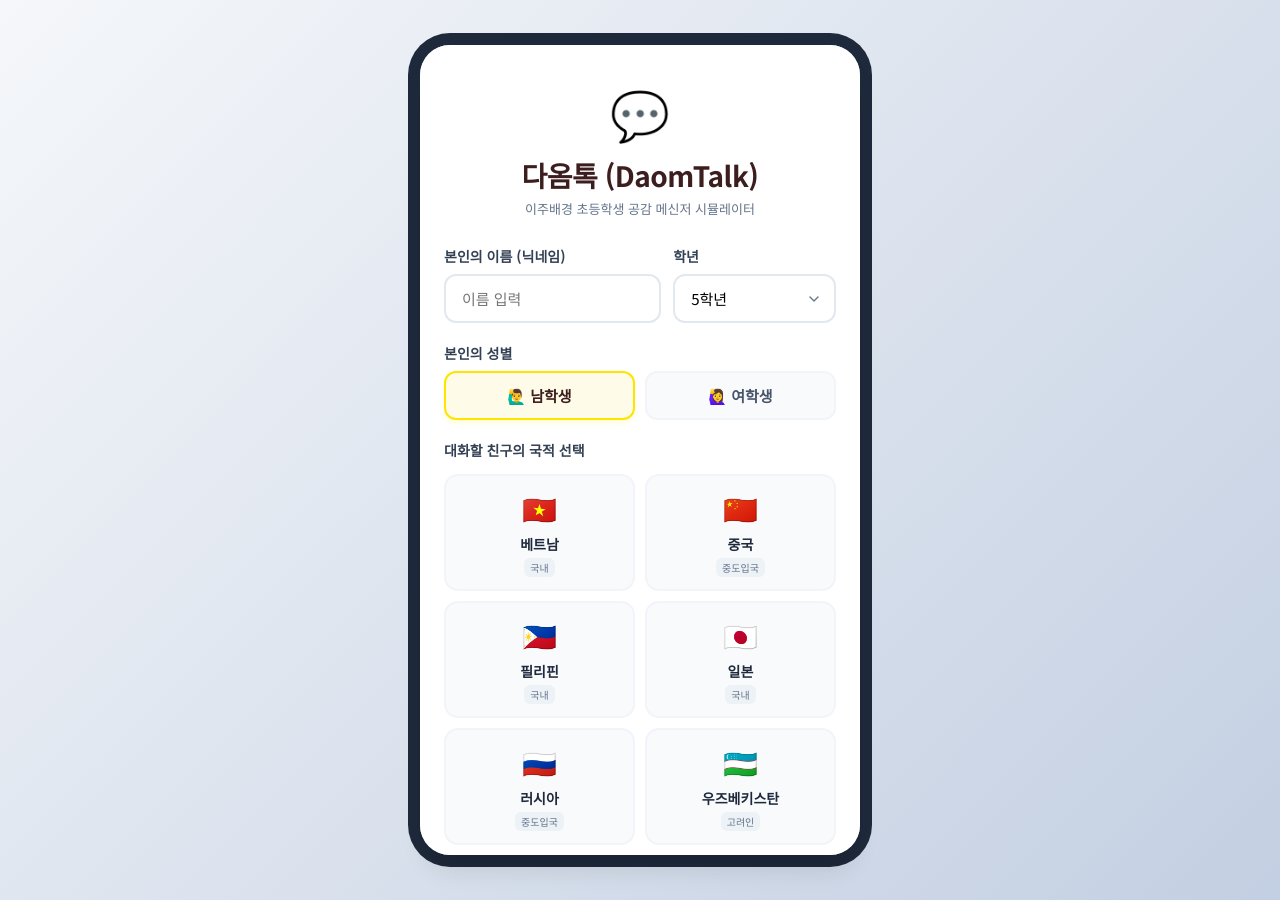
Test: Lobby Component › should keep the start button disabled if only name is entered
Type "김선생" into the field labelled "본인의 이름 (닉네임)". click: (553,298)
box: [444,274,661,323]
(page scrolled)
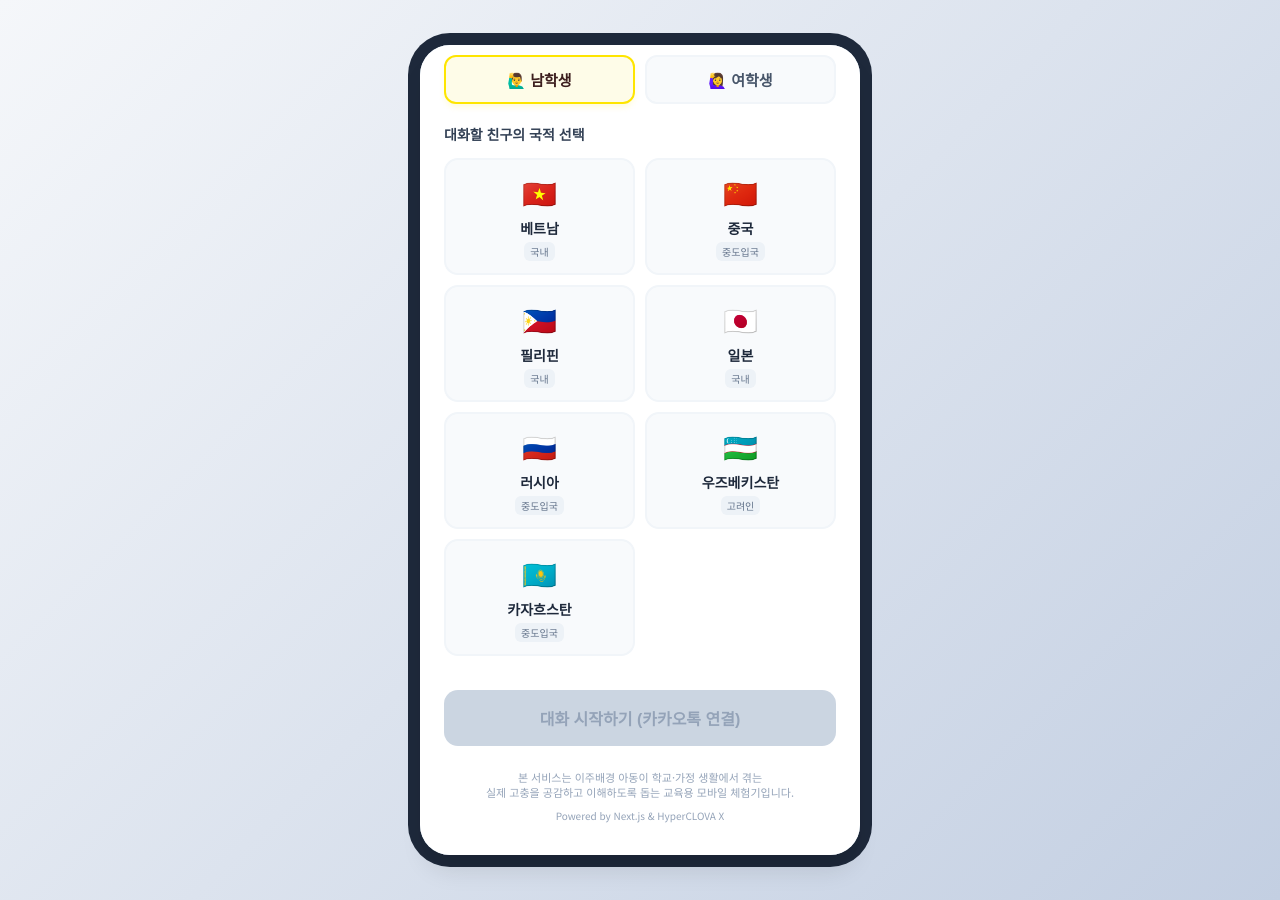
Expected: the button "대화 시작하기 (카카오톡 연결)" is disabled, [444,690,836,746]
